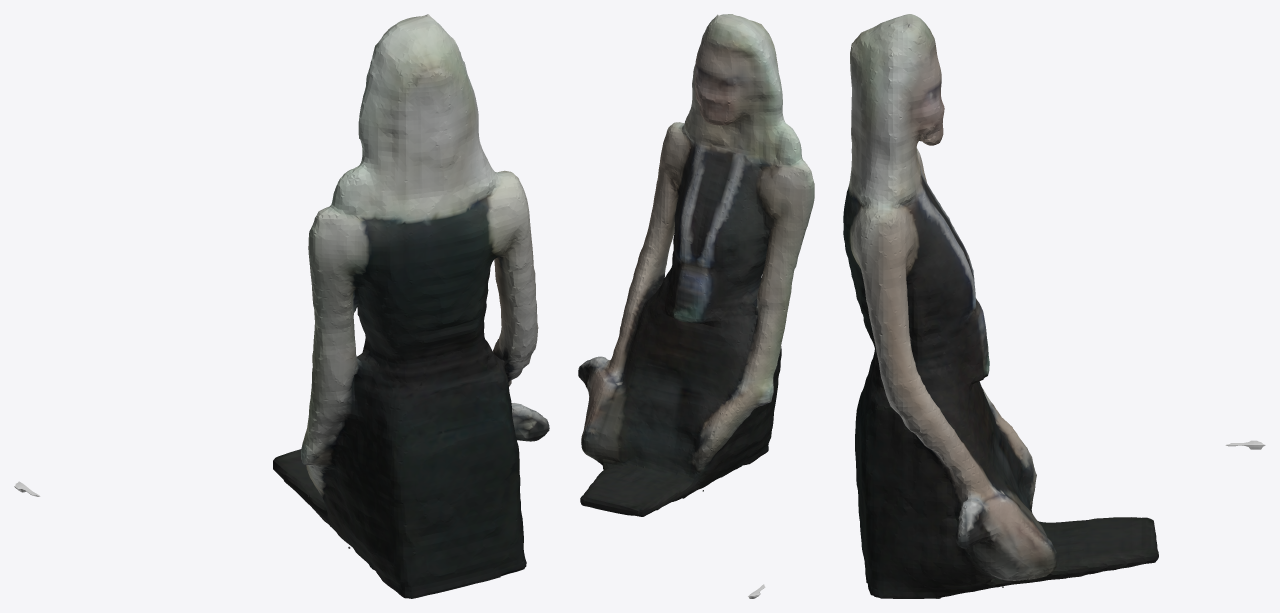
3 views of the same model, side by side, from view 1: azimuth 30°, elevation 25°; view 2: azimuth 150°, elevation 25°; view 3: azimuth 270°, elevation 25° (orthographic). The views are drawn at different scales.
Parts seen in each view (by area): view 1: world; view 2: world; view 3: world.
Part boxes in pixels (box(x1,y1,x2,y2)): world: box(14, 14, 549, 598); world: box(578, 14, 814, 598); world: box(843, 14, 1265, 598).
Bounding box in the file's own units: 1.42 × 2 × 1.42.
